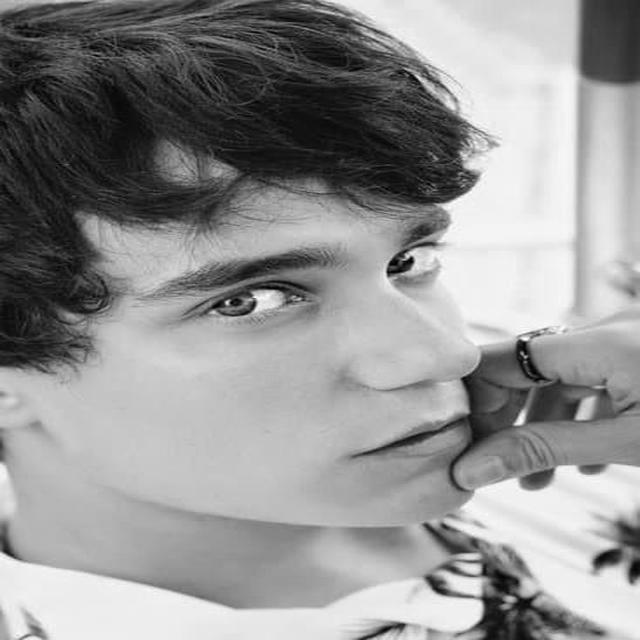Sadness: (120, 179, 478, 529)
